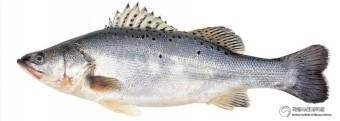fish: (17, 2, 327, 113)
